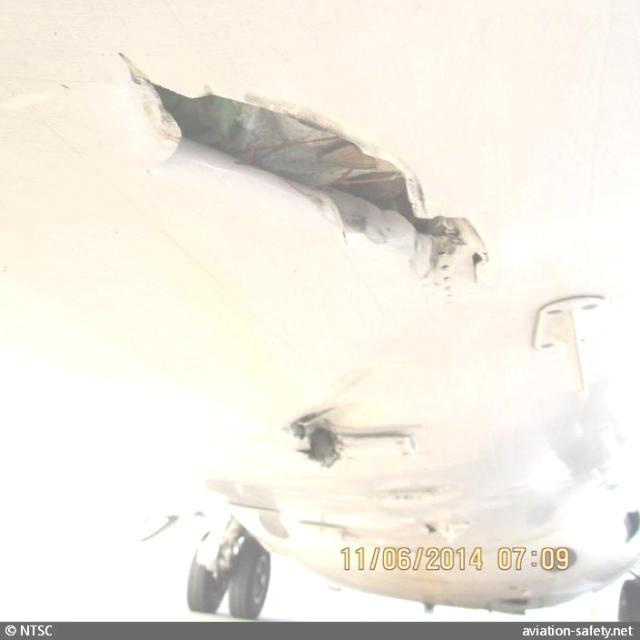crack: (124, 51, 495, 300)
